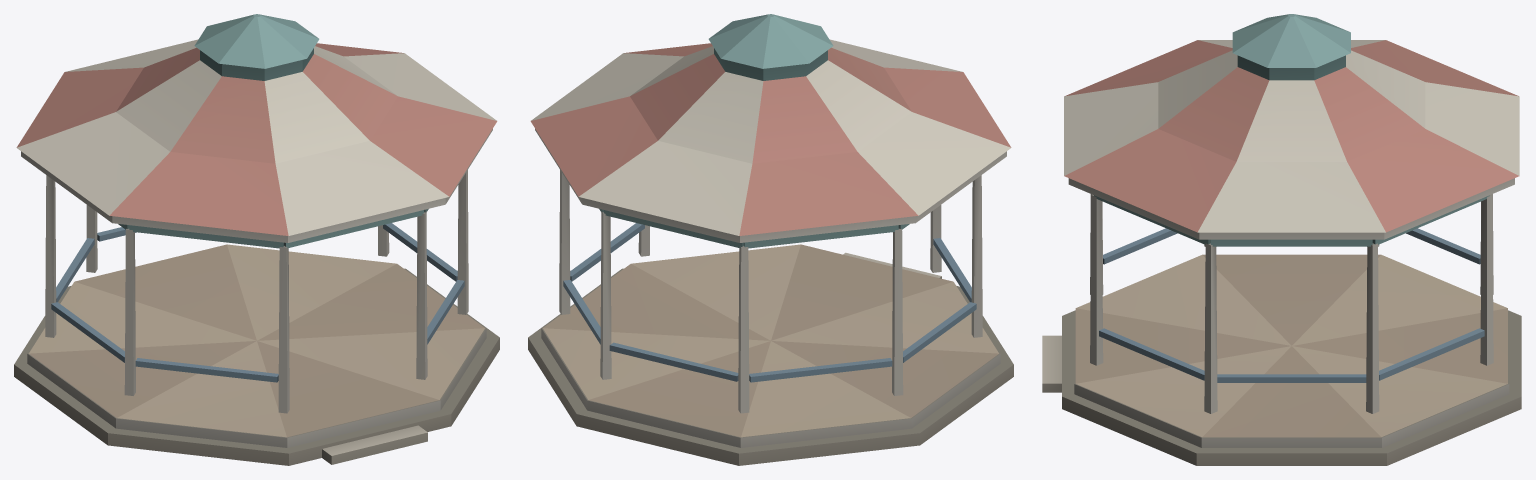
The model's file is bandstand.lod2.glb.
The picture shows the model from 3 angles, left to right: view 1: azimuth 30°, elevation 25°; view 2: azimuth 150°, elevation 25°; view 3: azimuth 270°, elevation 25°; orthographic projection.
Size of the model in its own units: 7.31 by 6.2 by 7.63.
